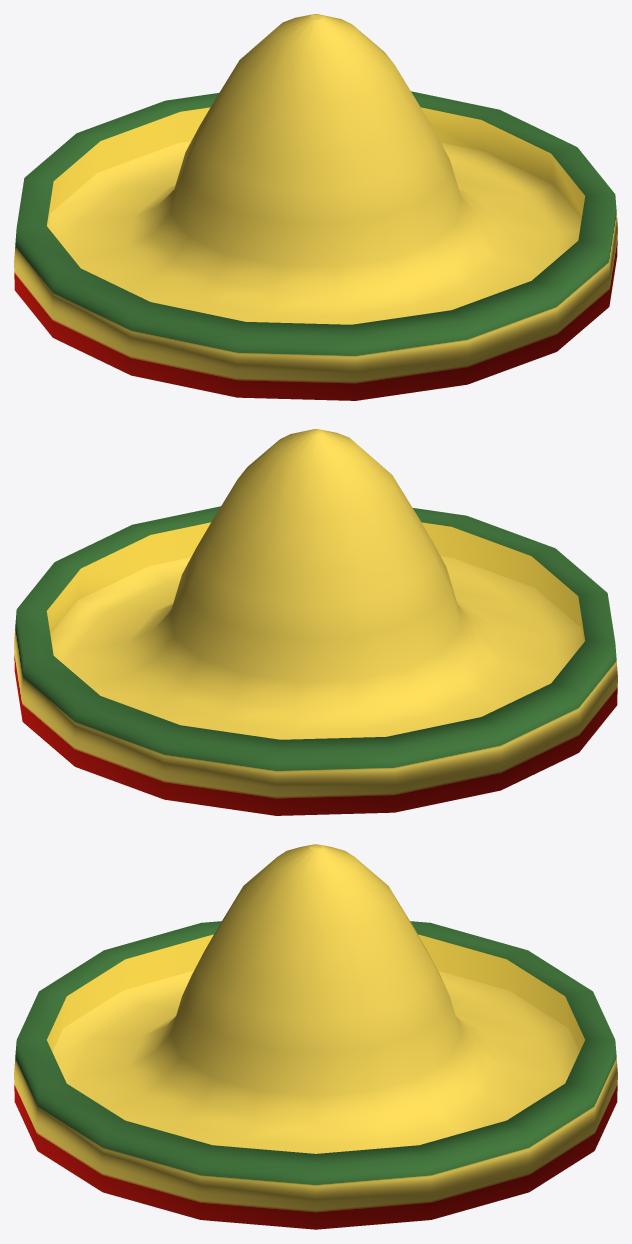
File: sombrero.glb
3 renders of one model, top to bottom at view 1: azimuth 30°, elevation 25°; view 2: azimuth 150°, elevation 25°; view 3: azimuth 270°, elevation 25°, orthographic.
Visible parts, largest first — view 1: sombrero:Sombrero_som; view 2: sombrero:Sombrero_som; view 3: sombrero:Sombrero_som.
Boxes of the visible parts, left/top/right/bottom form: sombrero:Sombrero_som: left=14, top=14, right=617, bottom=400; sombrero:Sombrero_som: left=14, top=429, right=617, bottom=815; sombrero:Sombrero_som: left=14, top=844, right=617, bottom=1229.
Size of the model in its own units: 0.0332 by 0.0154 by 0.0332.
1 material, 1 textured.
